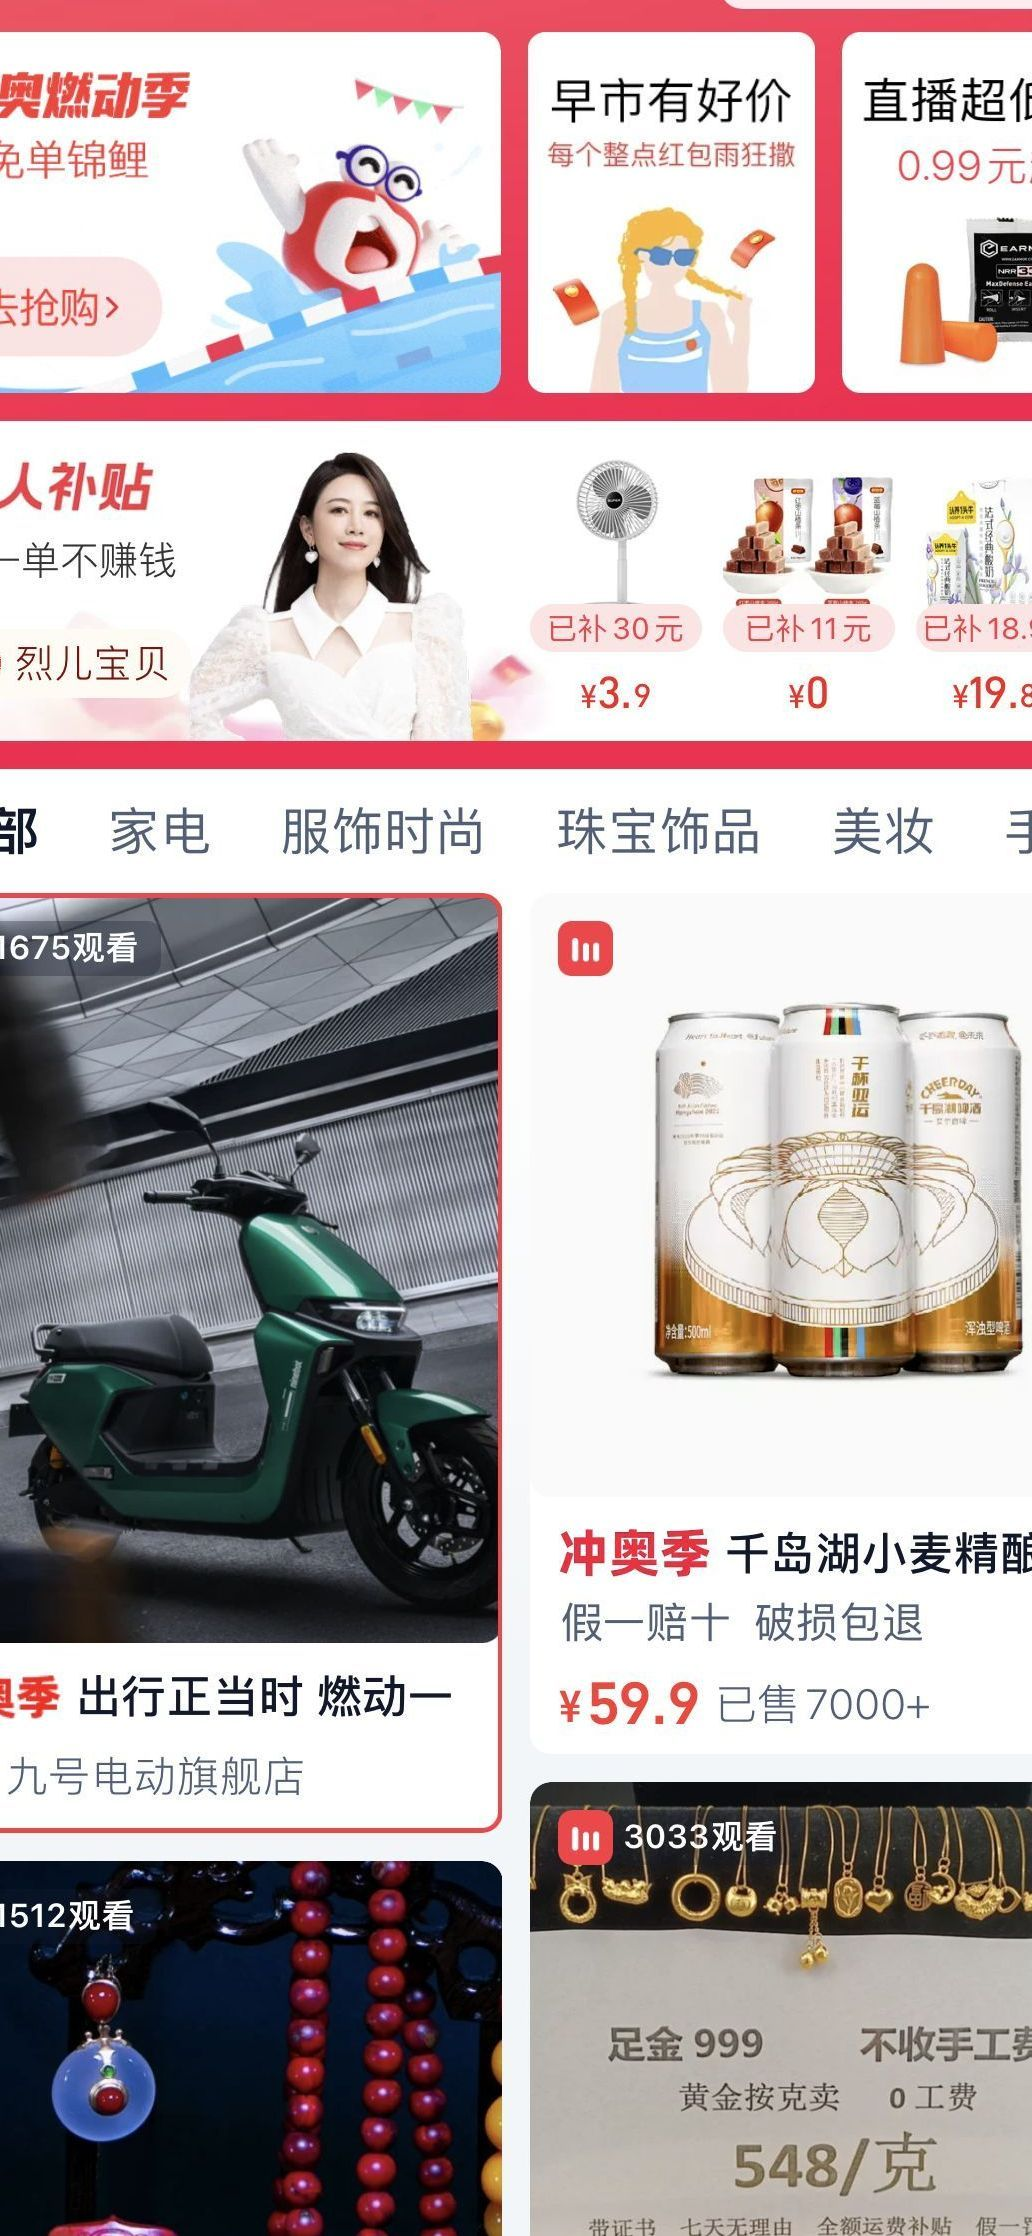item: (14, 881, 529, 1842), (537, 874, 1031, 1790)
seckill: (9, 398, 1029, 759)
